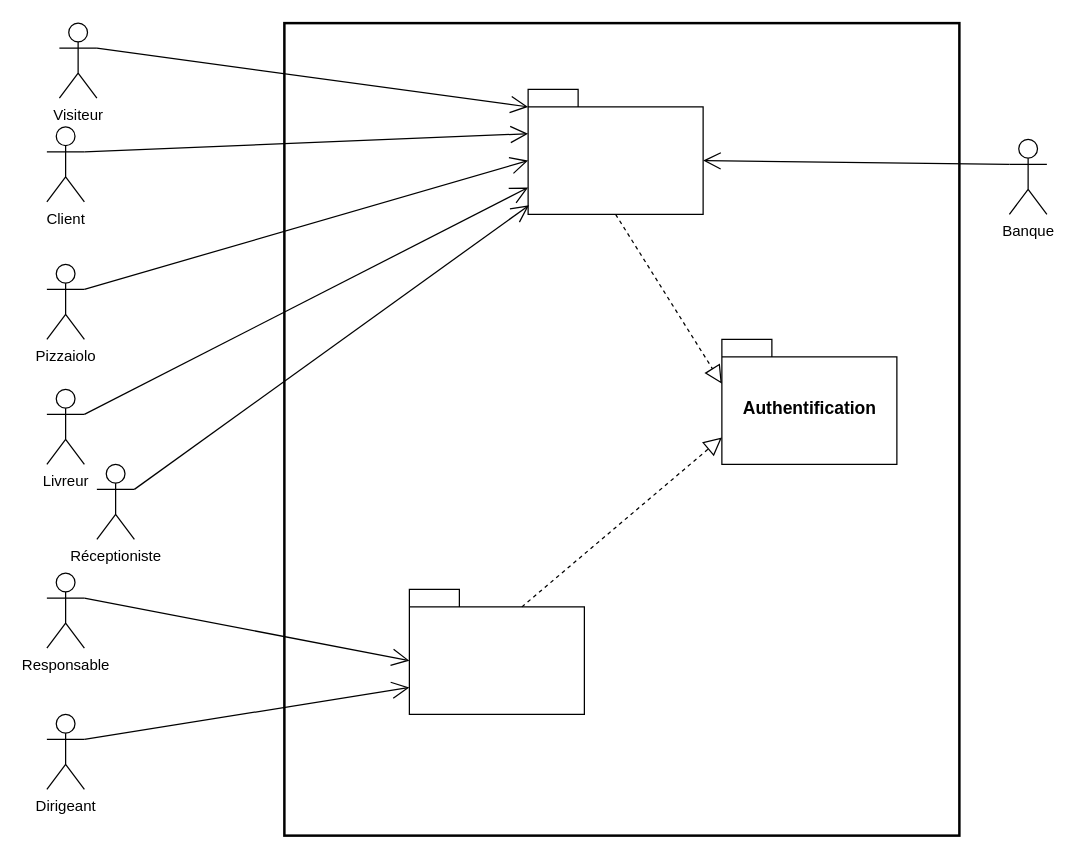
Some shapes in this 1075 by 858 pixel diagram are drawn without their labels. The centre of each missing label's shape, as x and y in pixels:
"Commande" belongs at (x=615, y=151).
"Gestion" belongs at (x=496, y=651).
